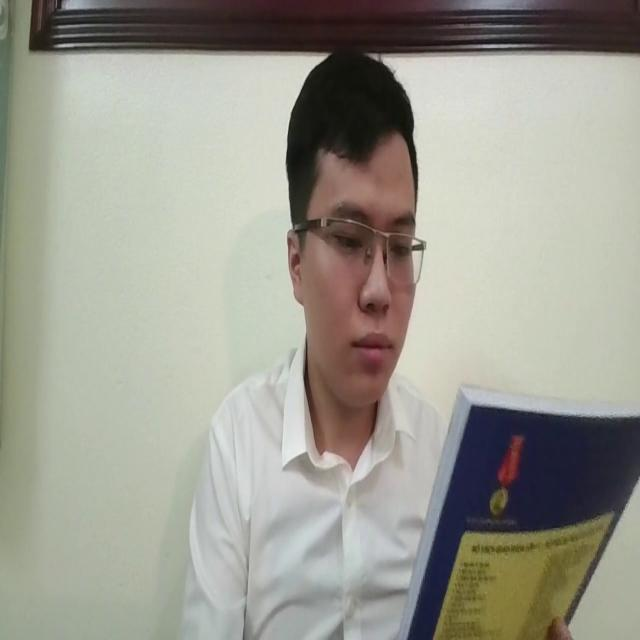book: (405, 375, 640, 640)
student: (173, 42, 461, 640)
